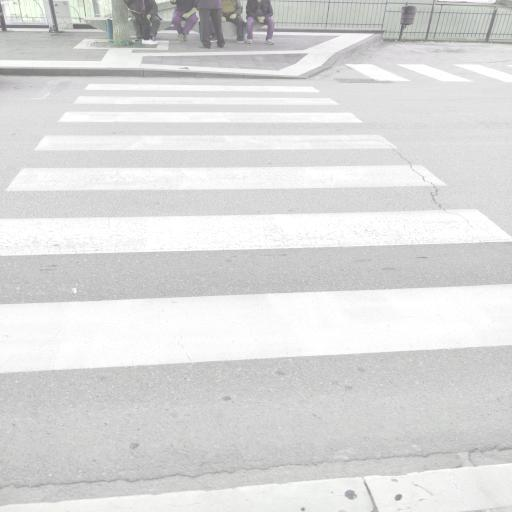crosswalk: (2, 128, 450, 202), (68, 79, 340, 109)
